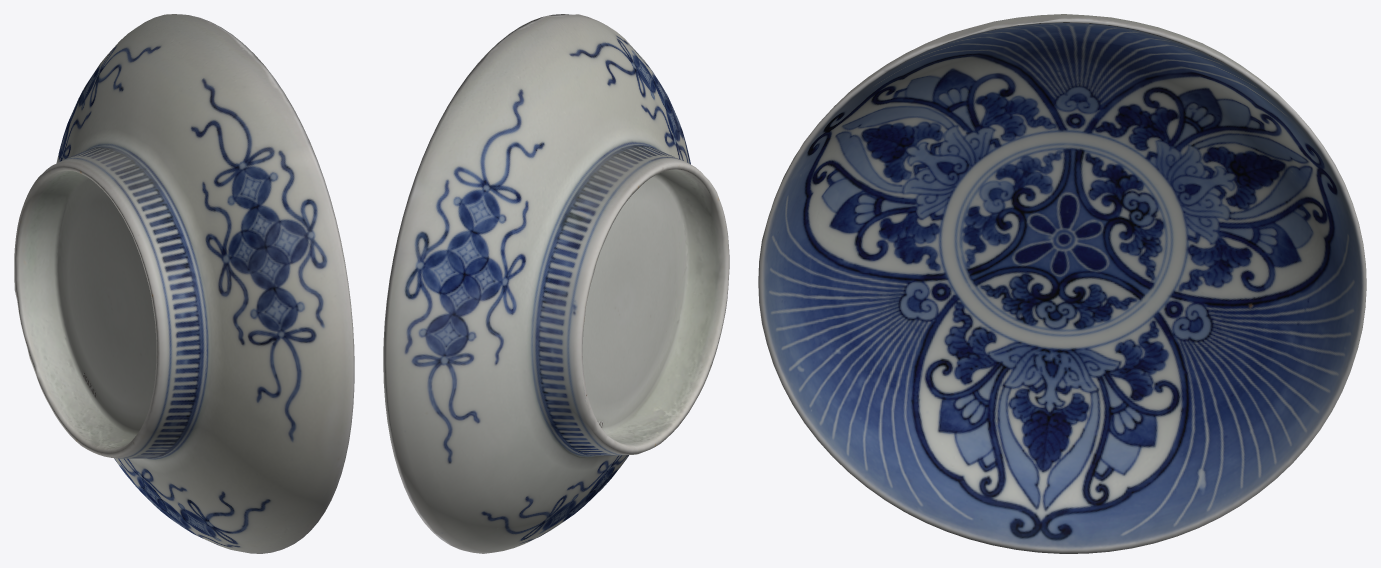
Rendered from L2_Antique12.fbx.
The picture shows the model from 3 angles, left to right: view 1: azimuth 30°, elevation 25°; view 2: azimuth 150°, elevation 25°; view 3: azimuth 270°, elevation 25°; orthographic projection. The views are drawn at different scales.
Parts seen in each view (by area): view 1: L2_Anti3; view 2: L2_Anti3; view 3: L2_Anti3.
Boxes of the visible parts, x1=… form: L2_Anti3: x1=14, y1=14, x2=354, y2=553; L2_Anti3: x1=383, y1=14, x2=729, y2=553; L2_Anti3: x1=758, y1=14, x2=1366, y2=553.
Bounding box in the file's own units: 0.0644 × 0.2012 × 0.2033.
Materials: 1 (1 with a texture image).
